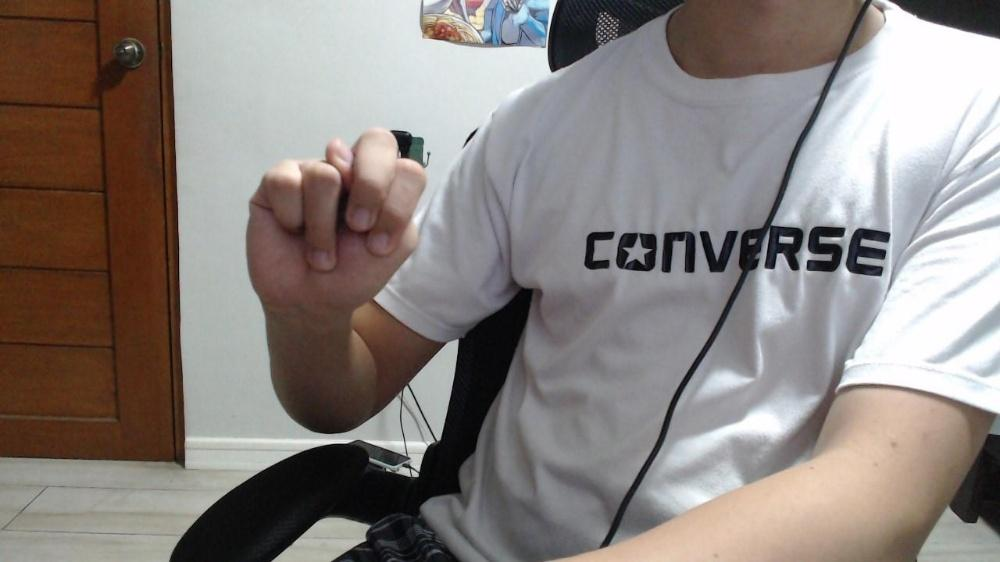n: (247, 126, 427, 312)
